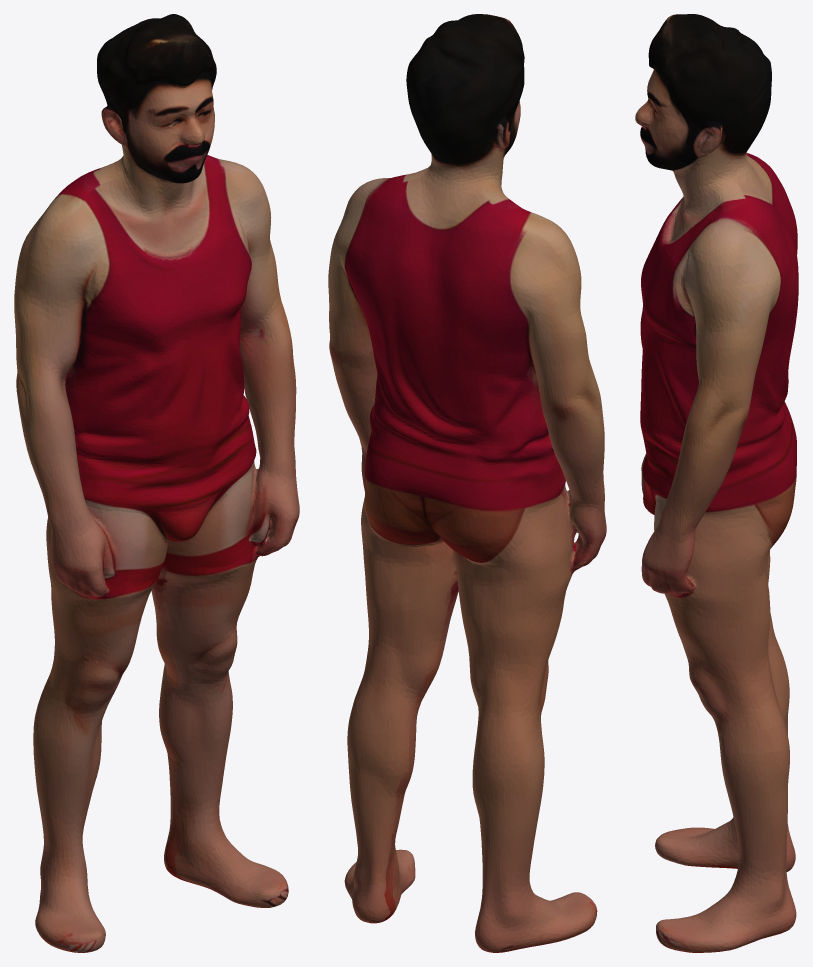
The model's file is smoll_skin_red_hq.glb.
3 renders of one model, left to right at view 1: azimuth 30°, elevation 25°; view 2: azimuth 150°, elevation 25°; view 3: azimuth 270°, elevation 25°, orthographic. The views are drawn at different scales.
Parts seen in each view (by area): view 1: smoll_skin_red.obj; view 2: smoll_skin_red.obj; view 3: smoll_skin_red.obj.
Part boxes in pixels (<box>): smoll_skin_red.obj: <box>14,14,299,952</box>; smoll_skin_red.obj: <box>328,14,606,952</box>; smoll_skin_red.obj: <box>635,14,798,952</box>.
Bounding box in the file's own units: 0.6179 × 1.99 × 0.3374.
1 material, 1 textured.
